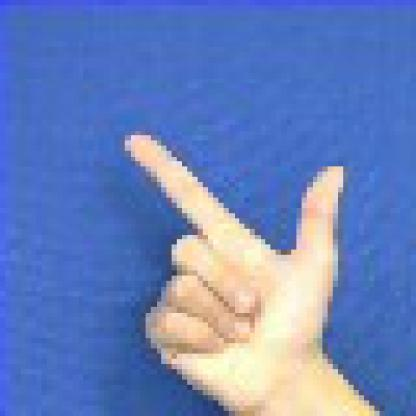seven: (101, 96, 379, 415)
